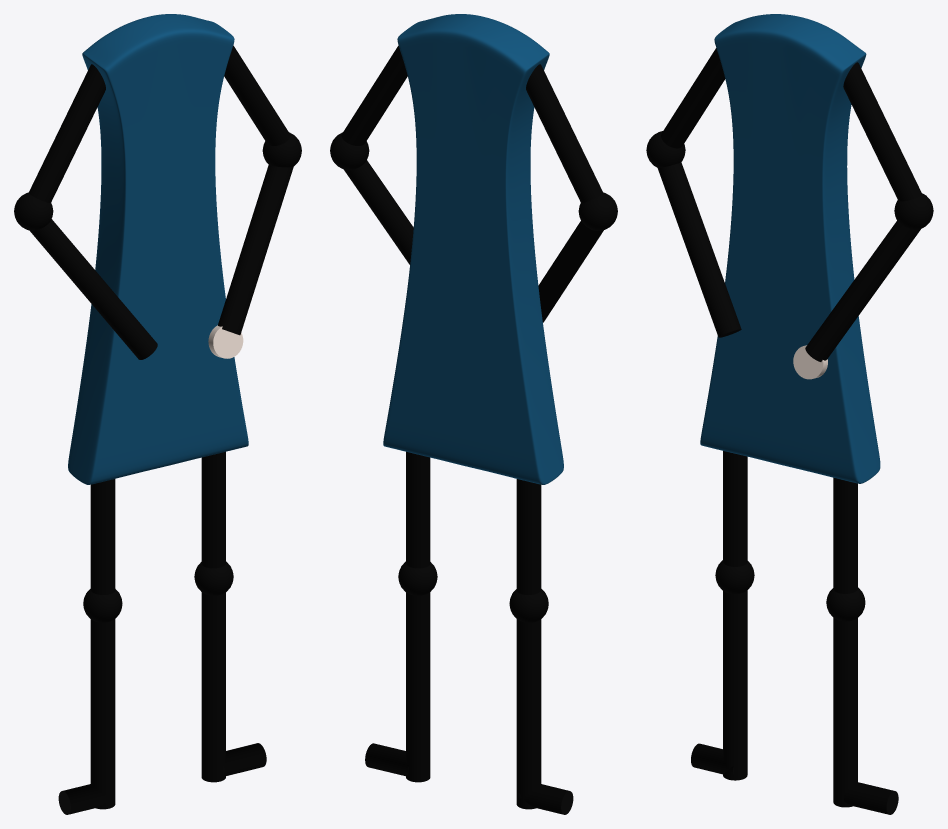
3 views of the same model, side by side, from view 1: azimuth 30°, elevation 25°; view 2: azimuth 150°, elevation 25°; view 3: azimuth 330°, elevation 25° (orthographic).
Visible parts, largest first — view 1: MaleBody, leftForeLeg, rightForeLeg, LeftForeArm, RightForeArm, RightUpperArm, rightUpperLeg, LeftUpperLeg, LeftUpperArm, rightUpperArmSphere, rightFoot, leftFoot (+4 smaller); view 2: MaleBody, leftForeLeg, rightForeLeg, RightUpperArm, rightUpperLeg, LeftUpperLeg, LeftUpperArm, LeftForeArm, RightForeArm, rightUpperArmSphere, rightFoot, leftFoot (+3 smaller); view 3: MaleBody, rightForeLeg, RightForeArm, leftForeLeg, LeftForeArm, LeftUpperArm, LeftUpperLeg, rightUpperLeg, RightUpperArm, leftFoot, LeftUpperArmSphere, leftUpperLegSphere (+4 smaller).
Boxes of the visible parts, x1,y1,x2,y2 form: MaleBody: (68, 14, 248, 484); leftForeLeg: (201, 592, 225, 782); rightForeLeg: (90, 619, 115, 809); LeftForeArm: (218, 165, 293, 335); RightForeArm: (30, 219, 157, 359); RightUpperArm: (28, 64, 105, 202); rightUpperLeg: (90, 479, 115, 594); LeftUpperLeg: (201, 451, 225, 568); LeftUpperArm: (224, 45, 290, 145); rightUpperArmSphere: (14, 192, 53, 230); rightFoot: (58, 784, 113, 814); leftFoot: (223, 743, 266, 775); MaleBody: (383, 14, 563, 484); leftForeLeg: (406, 592, 430, 782); rightForeLeg: (516, 619, 541, 809); RightUpperArm: (526, 64, 603, 202); rightUpperLeg: (516, 479, 541, 594); LeftUpperLeg: (406, 451, 430, 568); LeftUpperArm: (341, 45, 407, 145); LeftForeArm: (344, 160, 413, 264); RightForeArm: (538, 221, 603, 322); rightUpperArmSphere: (578, 192, 617, 230); rightFoot: (518, 784, 573, 814); leftFoot: (365, 743, 408, 776); MaleBody: (700, 14, 880, 483); rightForeLeg: (723, 590, 747, 780); RightForeArm: (657, 162, 741, 337); leftForeLeg: (833, 618, 857, 807); LeftForeArm: (805, 221, 920, 361); LeftUpperArm: (843, 62, 921, 201); LeftUpperLeg: (833, 477, 857, 593); rightUpperLeg: (723, 451, 747, 566); RightUpperArm: (661, 48, 725, 148); leftFoot: (844, 782, 898, 814); LeftUpperArmSphere: (894, 193, 933, 229); leftUpperLegSphere: (826, 587, 865, 621).
Size of the model in its own units: 133 by 345 by 35.4.
